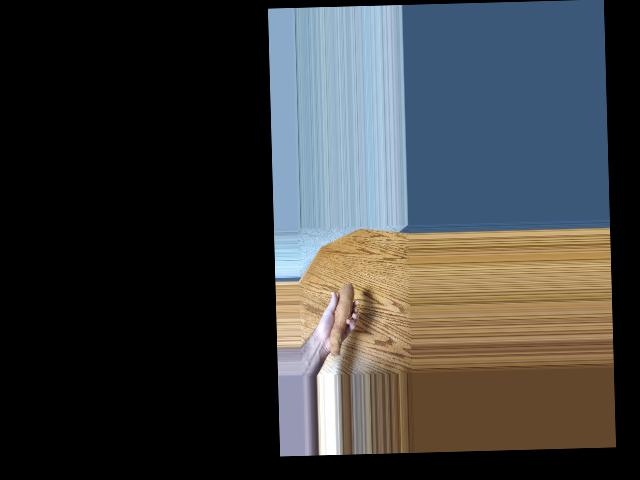sweet_potato: (327, 281, 356, 354)
